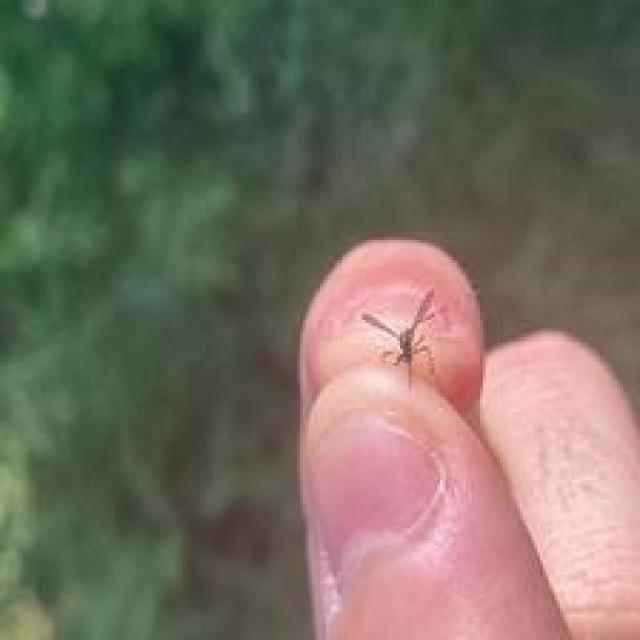Aedes albopictus: (360, 288, 440, 388)
